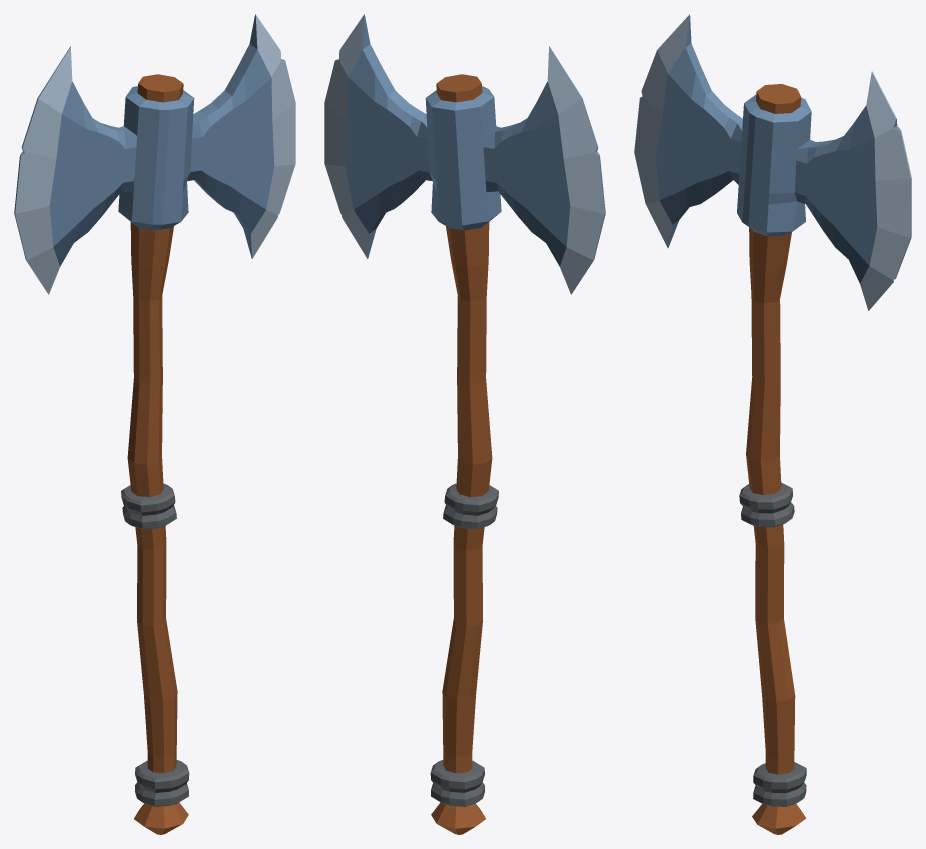
File: axe3.glb
The picture shows the model from 3 angles, left to right: view 1: azimuth 30°, elevation 25°; view 2: azimuth 150°, elevation 25°; view 3: azimuth 330°, elevation 25°; orthographic projection.
Parts seen in each view (by area): view 1: ascia bipenne; view 2: ascia bipenne; view 3: ascia bipenne.
Boxes of the visible parts, bbox=[...] form: ascia bipenne: bbox=[14, 14, 295, 834]; ascia bipenne: bbox=[324, 14, 605, 834]; ascia bipenne: bbox=[634, 14, 911, 834].
Size of the model in its own units: 22.05 by 60.7 by 4.41.
